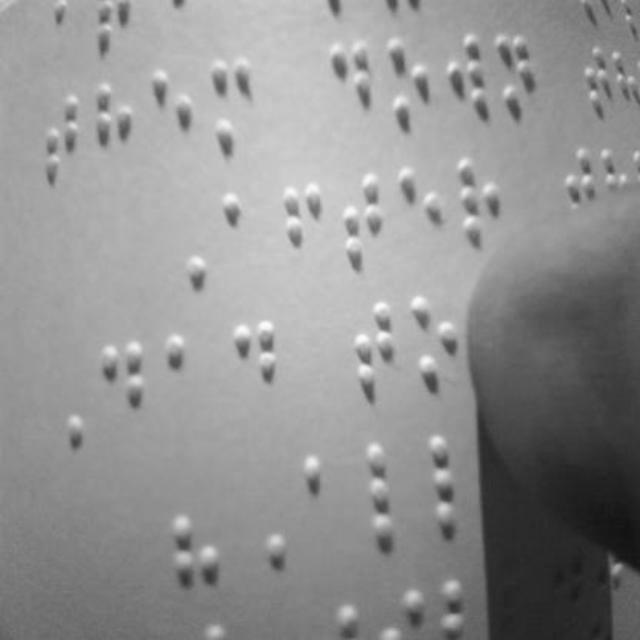braiile: (426, 430, 492, 544), (346, 294, 406, 402), (338, 162, 394, 276), (227, 319, 285, 429), (362, 442, 422, 548), (99, 338, 157, 447), (398, 163, 454, 273), (300, 448, 354, 560), (414, 290, 470, 398), (456, 160, 509, 266), (208, 54, 262, 158), (280, 180, 330, 290), (160, 331, 212, 434), (385, 34, 437, 136), (441, 30, 491, 136), (150, 63, 198, 173), (90, 76, 140, 180), (329, 38, 378, 144), (493, 30, 542, 134), (36, 85, 84, 189), (218, 189, 268, 287)
